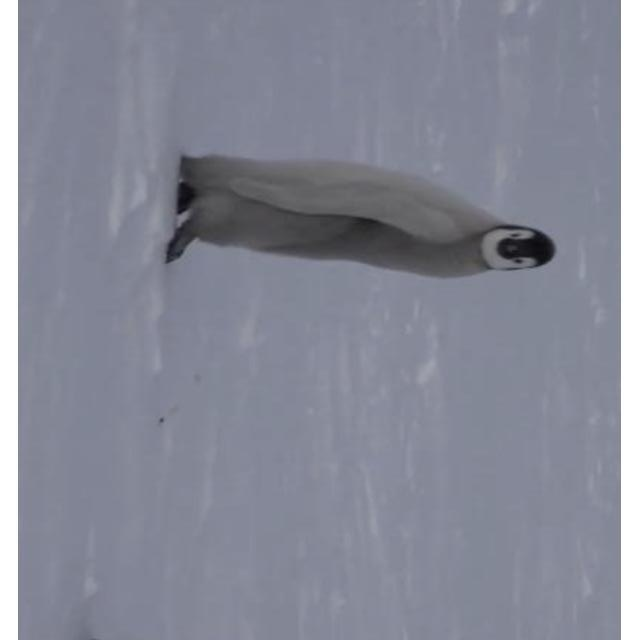penguin: (164, 152, 557, 279)
